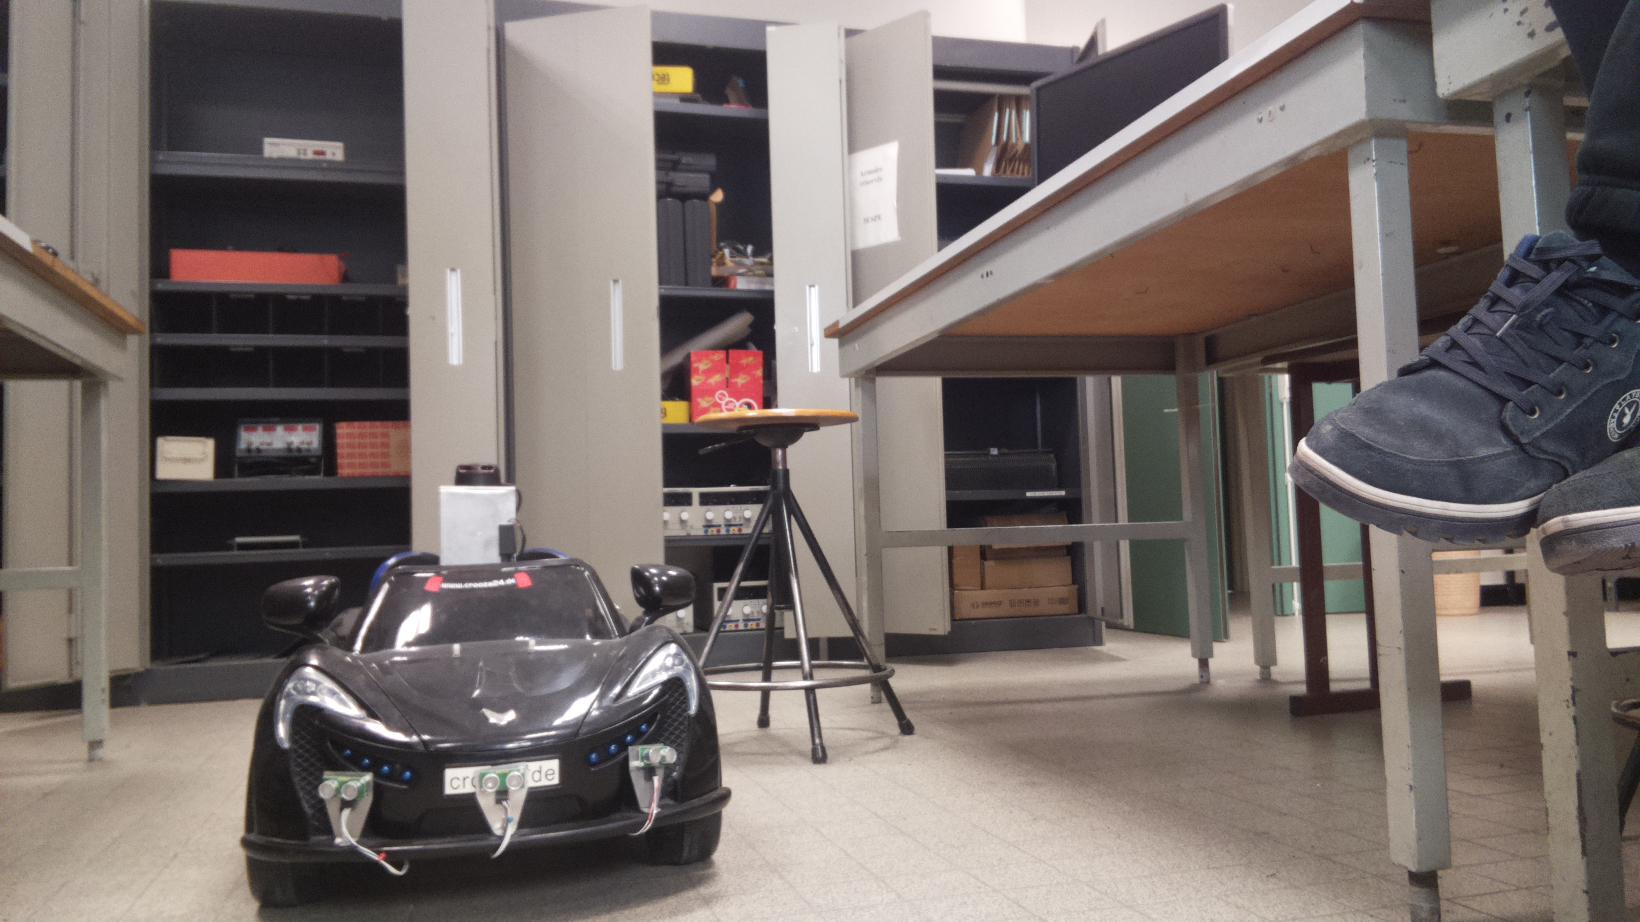big: (239, 543, 737, 906)
